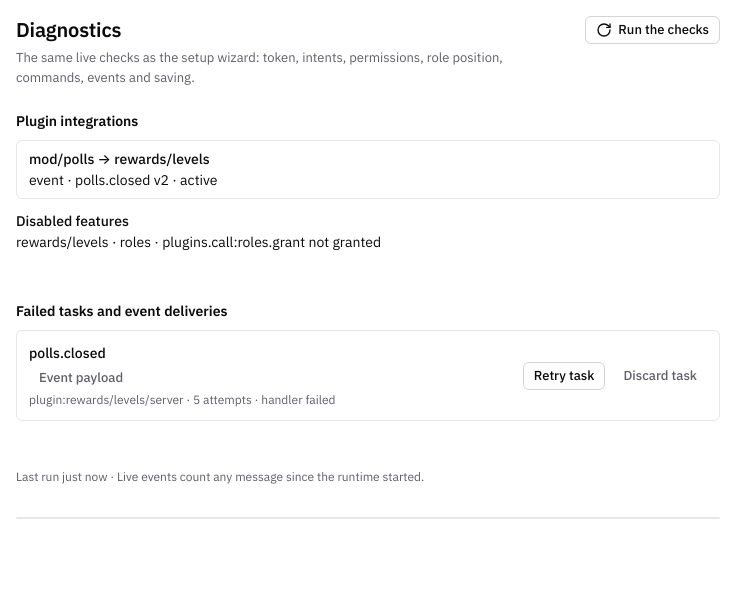
Test: server diagnostics exposes directed contracts, missing grants and event payload on demand
The width and height of the screenshot is (737, 616).
Check: the text "mod/polls → rewards/levels" is shown, box [29, 150, 210, 168]
Check: the list item "not granted" is shown, box [16, 233, 381, 251]
Click the button "Event payload" at (81, 378), box [29, 364, 133, 392]
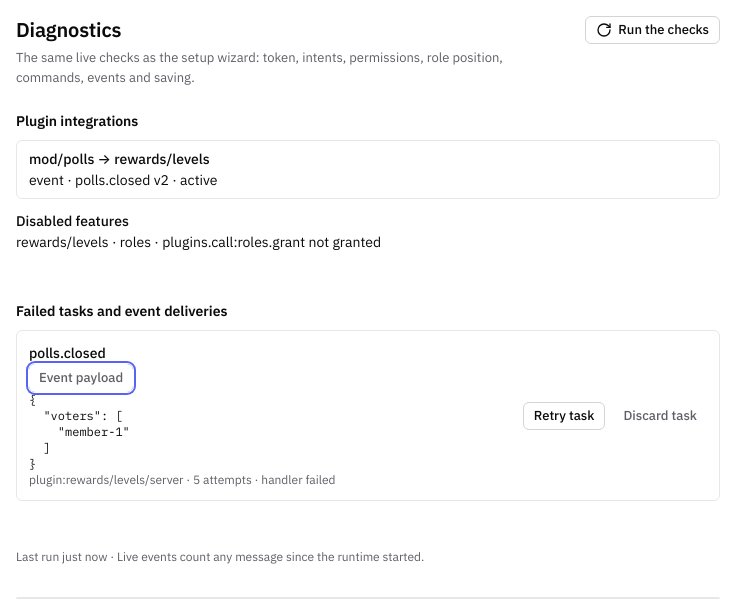
Check: the text "{ \"voters\": [ \"member-1\" ] }" is shown, box [29, 392, 130, 471]
